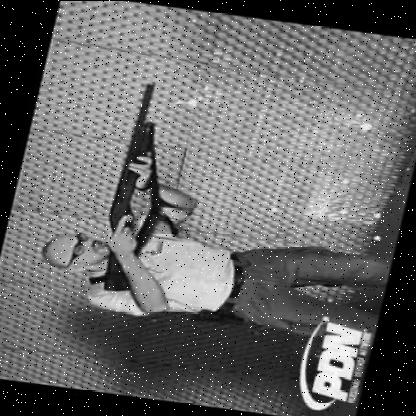rifle: (86, 76, 186, 300)
